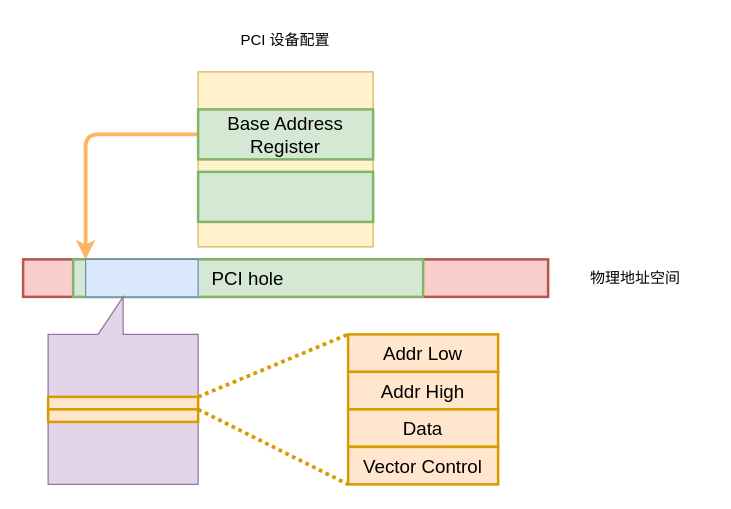
This 731x509 diagram has some shape labels left out. Each missing label, with the centre of its shape:
"Expansion ROM Base Address" belongs at point (285, 196).
"MSI-X TABLE" belongs at point (141, 277).
